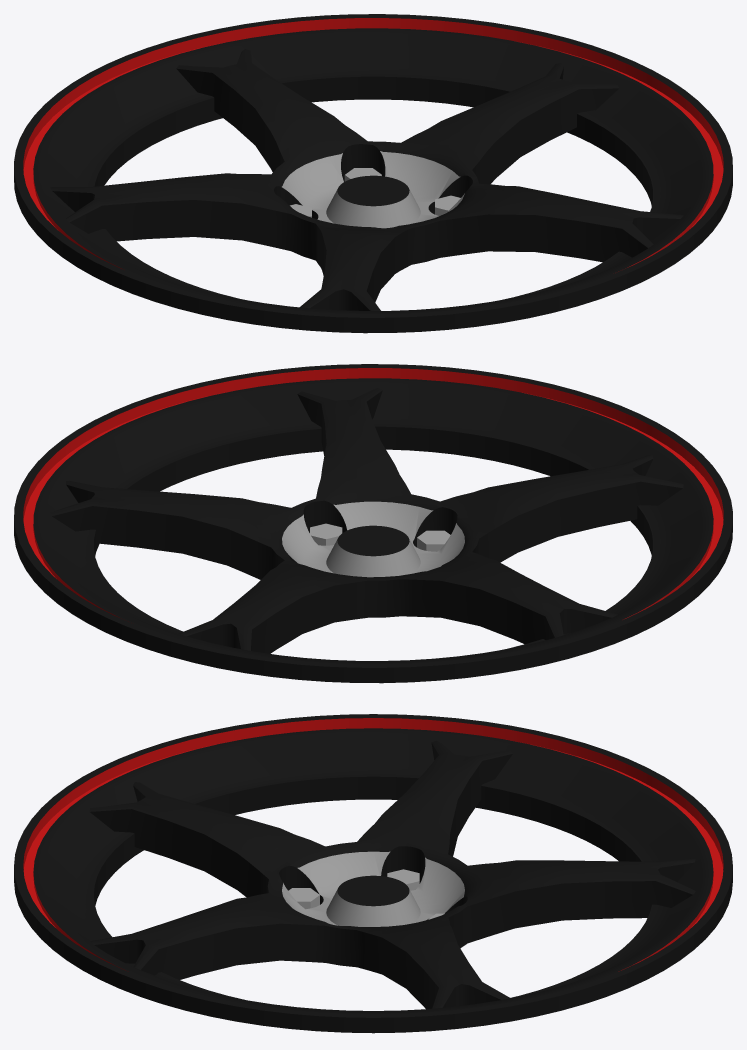
Rendered from alcasta.fbx.
3 views of the same model, one above another, from view 1: azimuth 30°, elevation 25°; view 2: azimuth 150°, elevation 25°; view 3: azimuth 270°, elevation 25° (orthographic).
Visible parts, largest first — view 1: Alcasta; view 2: Alcasta; view 3: Alcasta.
Part boxes in pixels (box(x1,y1,x2,y2)): Alcasta: box(14, 14, 732, 333); Alcasta: box(14, 364, 732, 683); Alcasta: box(14, 714, 732, 1033).
Size of the model in its own units: 10037 by 880 by 10037.
